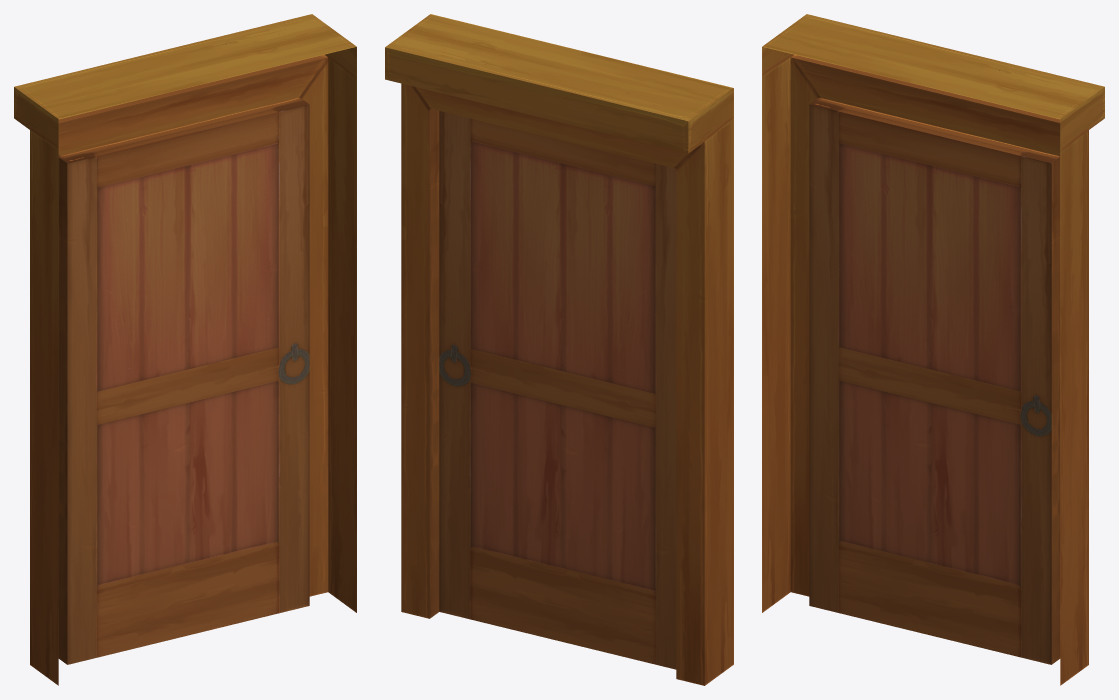
The model's file is Door_A_01.fbx.
The picture shows the model from 3 angles, left to right: view 1: azimuth 30°, elevation 25°; view 2: azimuth 150°, elevation 25°; view 3: azimuth 330°, elevation 25°; orthographic projection.
Parts seen in each view (by area): view 1: Door_A_01; view 2: Door_A_01; view 3: Door_A_01.
Part boxes in pixels (x1,y1,x2,y2): Door_A_01: (14, 14, 356, 685); Door_A_01: (385, 14, 733, 685); Door_A_01: (762, 14, 1104, 685).
Bounding box in the file's own units: 212 × 385 × 55.07.
Materials: 1 (1 with a texture image).
